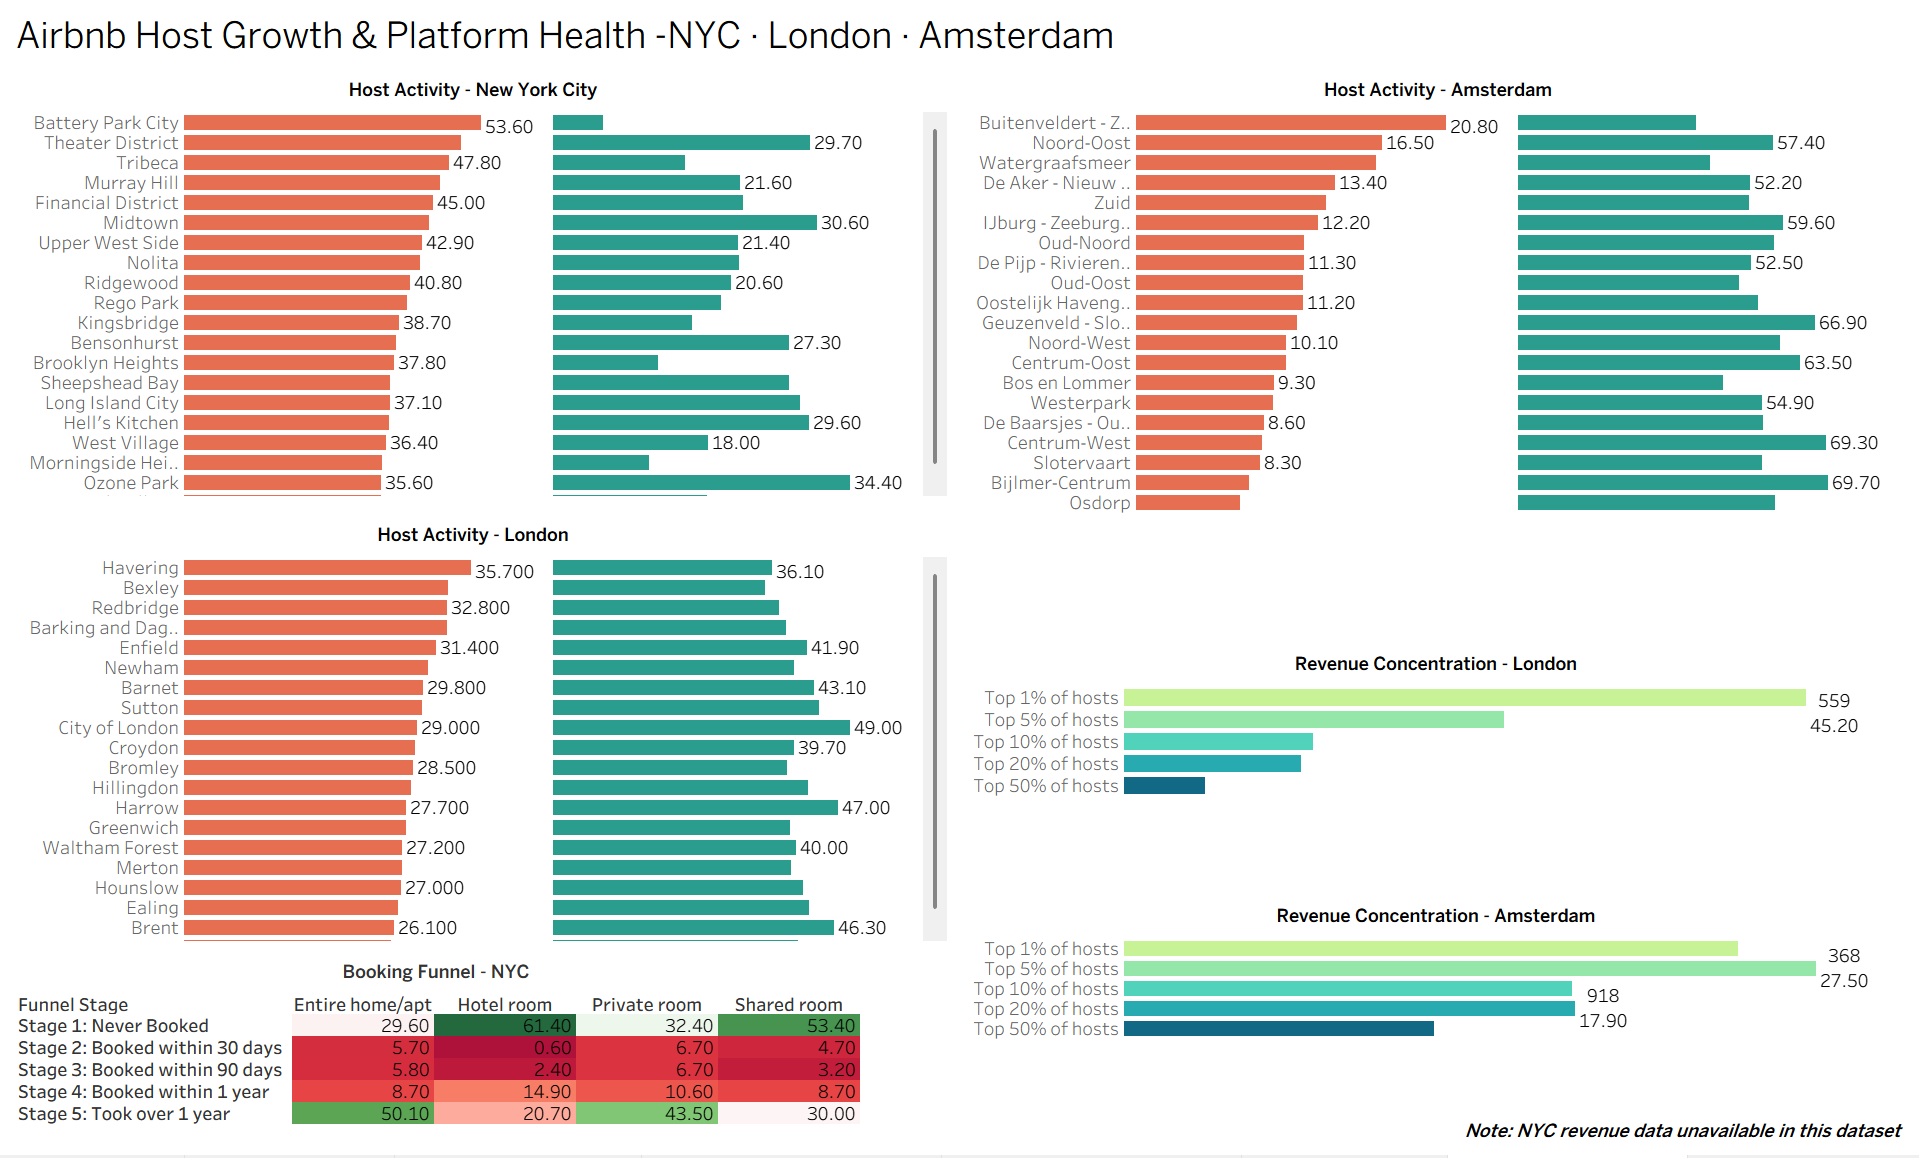

Layout of this report page (visuals, bound fields, positions):
{"tool":"tableau","page":{"name":"Airbnb Growth Analysis","canvas":[1000,1000],"units":"permille","ordinal":0},"visuals":[{"type":"text","box":[7.1,8.6,985.8,47.5]},{"type":"worksheet","title":"Host Activity - NYC","mark":"Bar","rows":["neighbourhood_cleansed"],"cols":["pct_never_booked","pct_active"],"box":[7.1,56.1,492.8,359.6]},{"type":"worksheet","title":"Host Activity - Amsterdam","mark":"Bar","rows":["neighbourhood_cleansed"],"cols":["pct_never_booked","pct_active"],"box":[499.9,56.1,492.9,502.2]},{"type":"worksheet","title":"Host Activity - London","mark":"Bar","rows":["neighbourhood_cleansed"],"cols":["pct_never_booked","pct_active"],"box":[7.1,415.7,492.8,359.6]},{"type":"worksheet","title":"Revenue Concentration - London","mark":"Automatic","rows":["host_tier"],"cols":["pct_of_total"],"box":[499.9,558.3,492.9,167.4]},{"type":"worksheet","title":"Revenue Concentration - Amsterdam","mark":"Automatic","rows":["host_tier"],"cols":["pct_of_total"],"box":[499.9,775.3,492.9,181.5]},{"type":"worksheet","title":"Booking Funnel - NYC","mark":"Square","rows":["funnel_stage"],"cols":["room_type"],"box":[7.1,775.4,492.8,216]},{"type":"text","box":[499.9,956.8,492.9,34.6]}]}

Visuals, with their boxes on the dashboard's canvas, which has no fixed pixel size, in thousandths of its width and height (x1, y1, x2, y2). These are canvas units, not pixel positions in the 1919x1158 screenshot, which may show the page scaled, cropped or inside an application window:
text: (left=7, top=9, right=993, bottom=56)
"Host Activity - NYC" worksheet (Bar marks): (left=7, top=56, right=500, bottom=416)
"Host Activity - Amsterdam" worksheet (Bar marks): (left=500, top=56, right=993, bottom=558)
"Host Activity - London" worksheet (Bar marks): (left=7, top=416, right=500, bottom=775)
"Revenue Concentration - London" worksheet: (left=500, top=558, right=993, bottom=726)
"Revenue Concentration - Amsterdam" worksheet: (left=500, top=775, right=993, bottom=957)
"Booking Funnel - NYC" worksheet (Square marks): (left=7, top=775, right=500, bottom=991)
text: (left=500, top=957, right=993, bottom=991)
